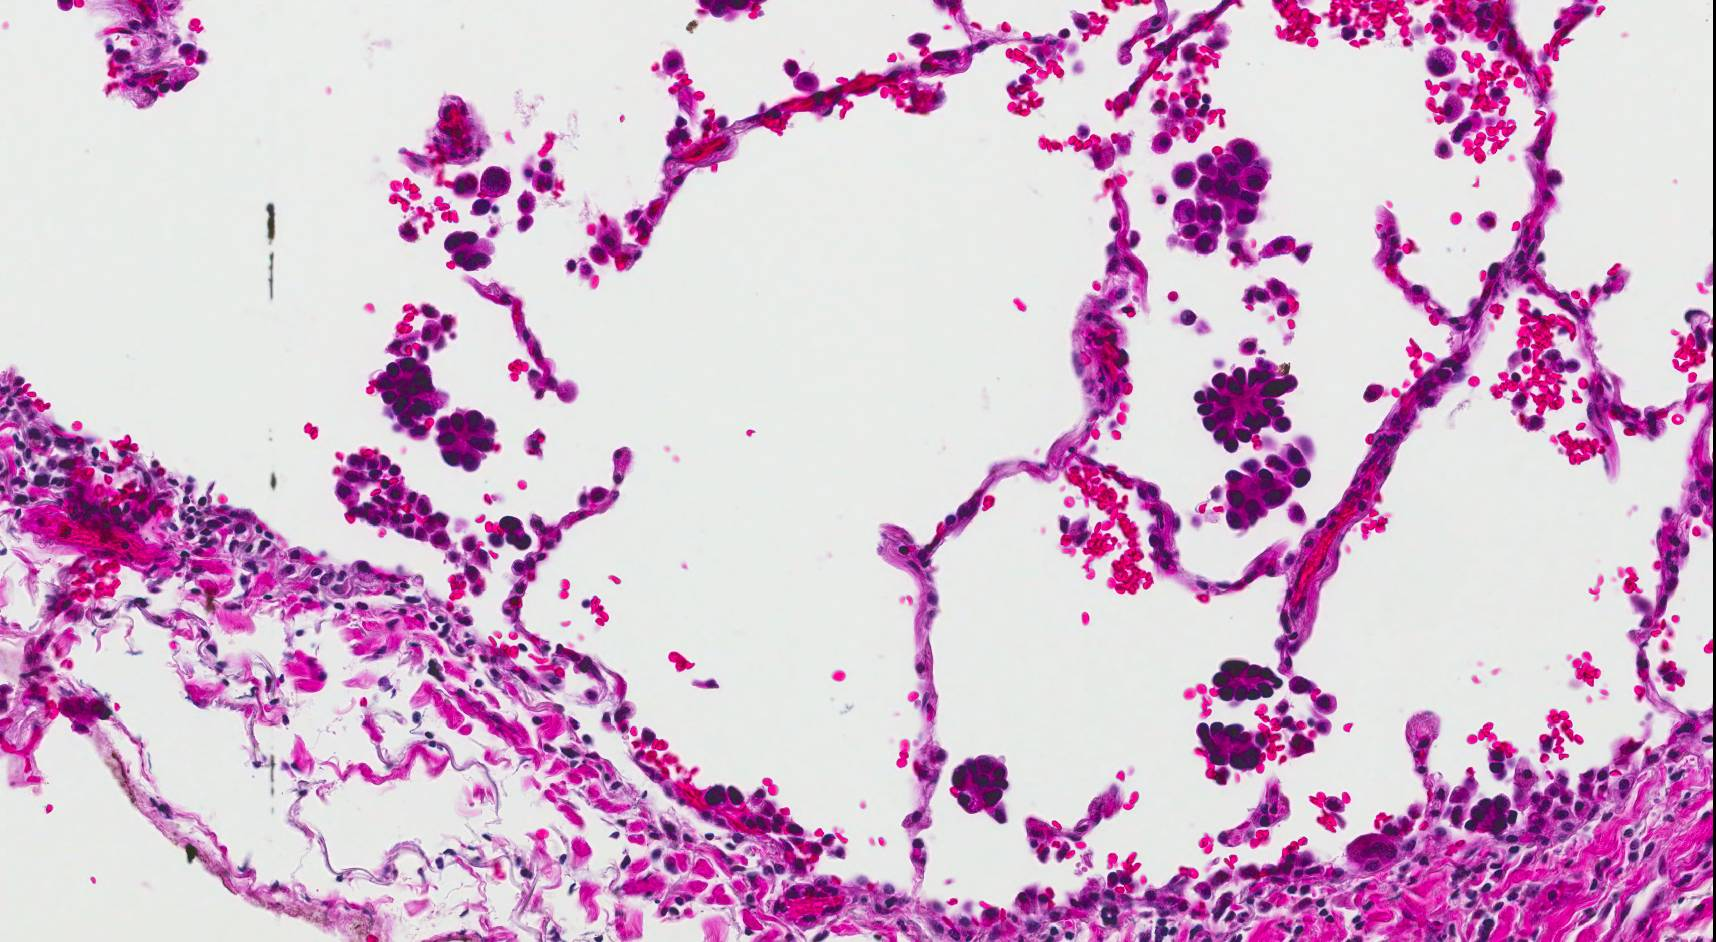stas: (1191, 365, 1299, 452), (1220, 440, 1310, 536), (376, 359, 441, 436), (951, 752, 1014, 824), (1197, 717, 1275, 773), (434, 409, 498, 473), (1208, 657, 1283, 702), (1462, 795, 1518, 839), (444, 228, 499, 270), (489, 512, 536, 550)
